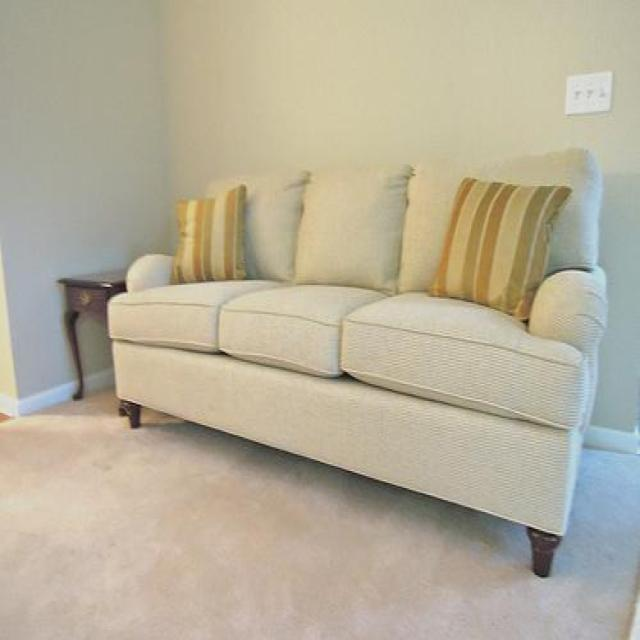sofa: (106, 138, 610, 581)
